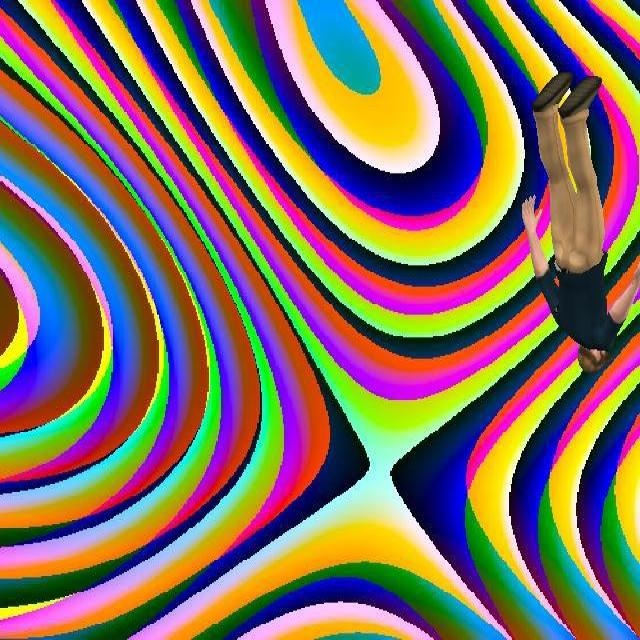obstacle: (519, 67, 640, 376)
